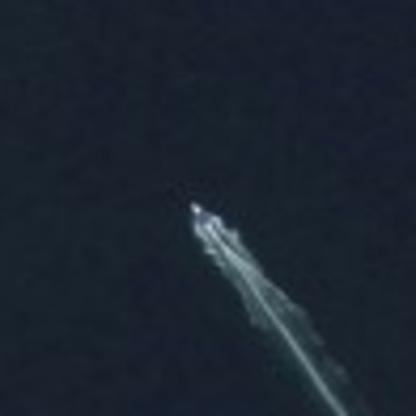ship: (181, 194, 210, 220)
